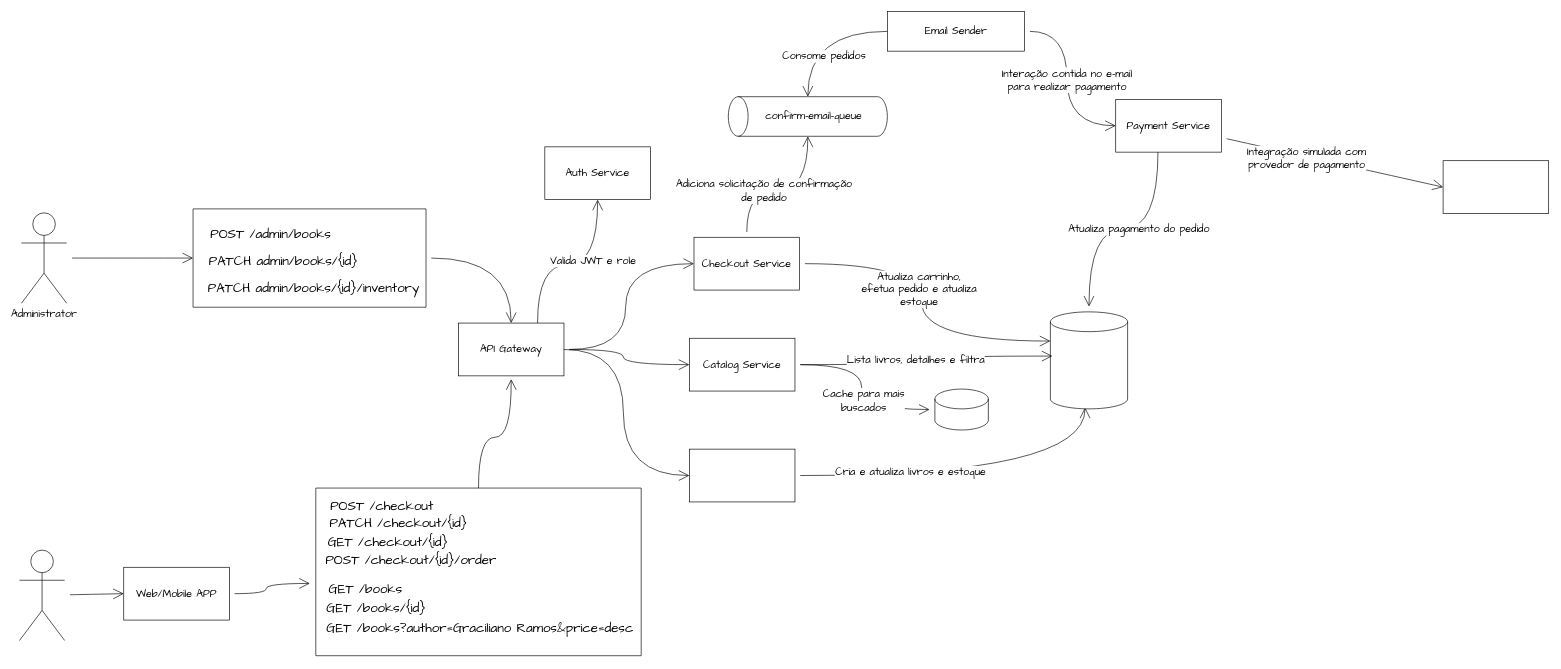
Image size: 1561x669. Some labels were removed from this diagram. Here are the shapes that lost their labels. From the top down, the centre of each, then its label:
(1495,187): External Payment API
(1089,360): Database
(961,409): Cache
(742,475): Admin Service
(42,595): User
